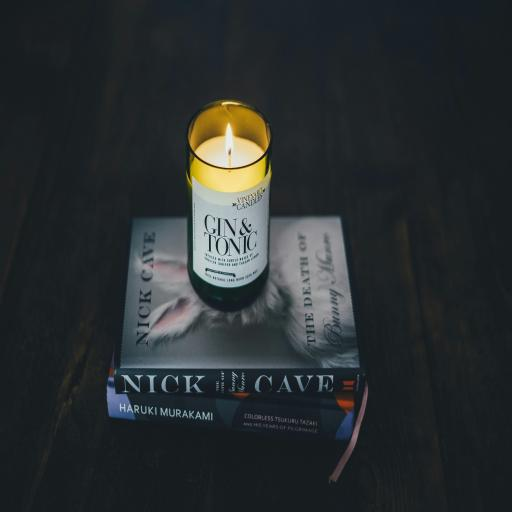candlelight: (176, 92, 291, 306)
